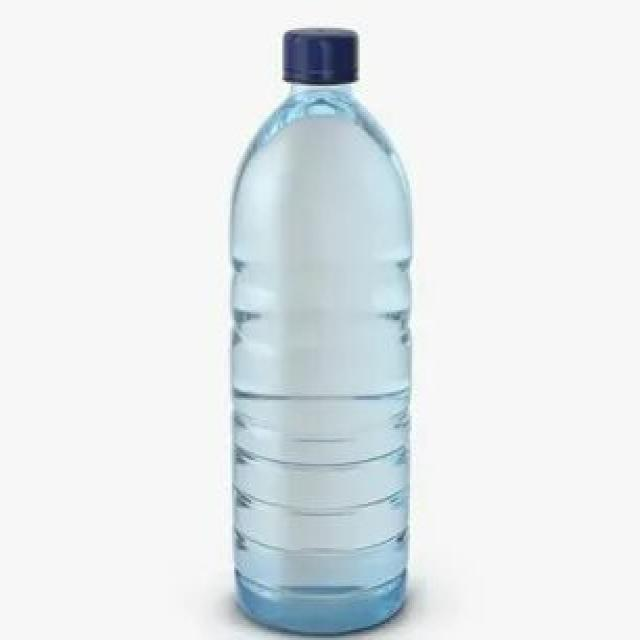blue: (227, 82, 413, 638)
